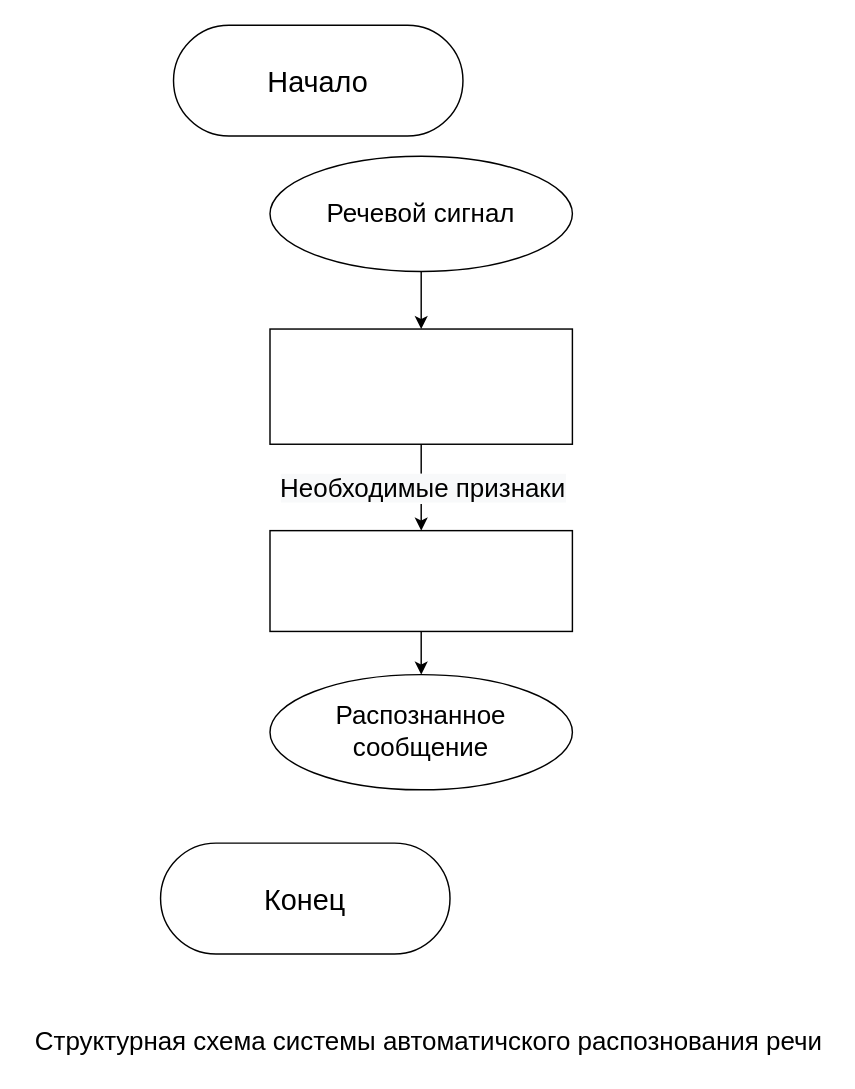
Image size: 855x1089. Some labels were removed from this diagram. Each missing label, with the centre of its shape:
"Модель анализа речевого сигнала (извлечение признаков)" goes at point 420,386.
"Модель распознования речи" goes at point 420,580.
